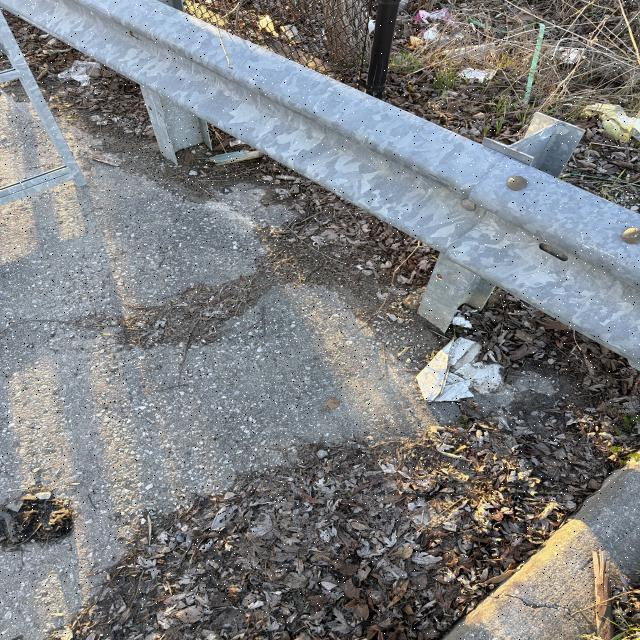Guard rail: (4, 6, 613, 316)
